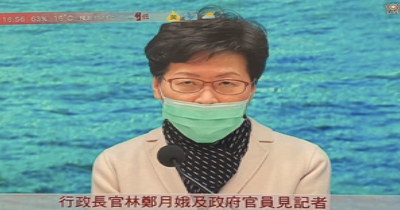mask_weared_incorrect: (160, 69, 252, 144)
